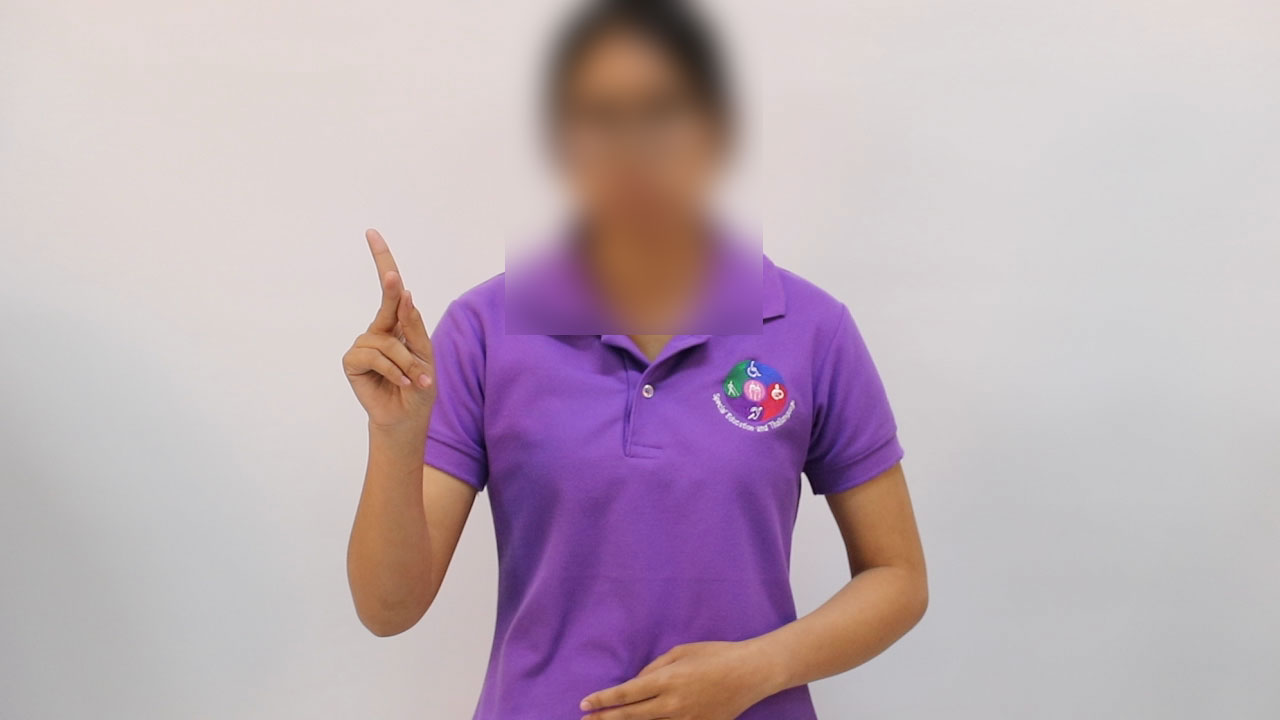ko: (316, 217, 459, 432)
